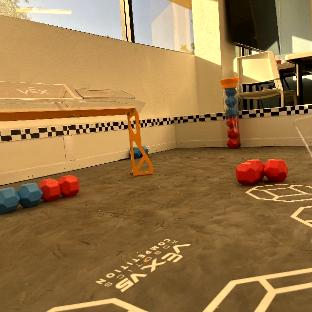Goal: (0, 80, 152, 176)
V5_BLUE: (0, 183, 40, 212), (226, 87, 236, 136), (134, 148, 140, 158), (144, 147, 148, 152)
V5_RED: (235, 159, 288, 185), (38, 176, 79, 201), (228, 120, 238, 148)
